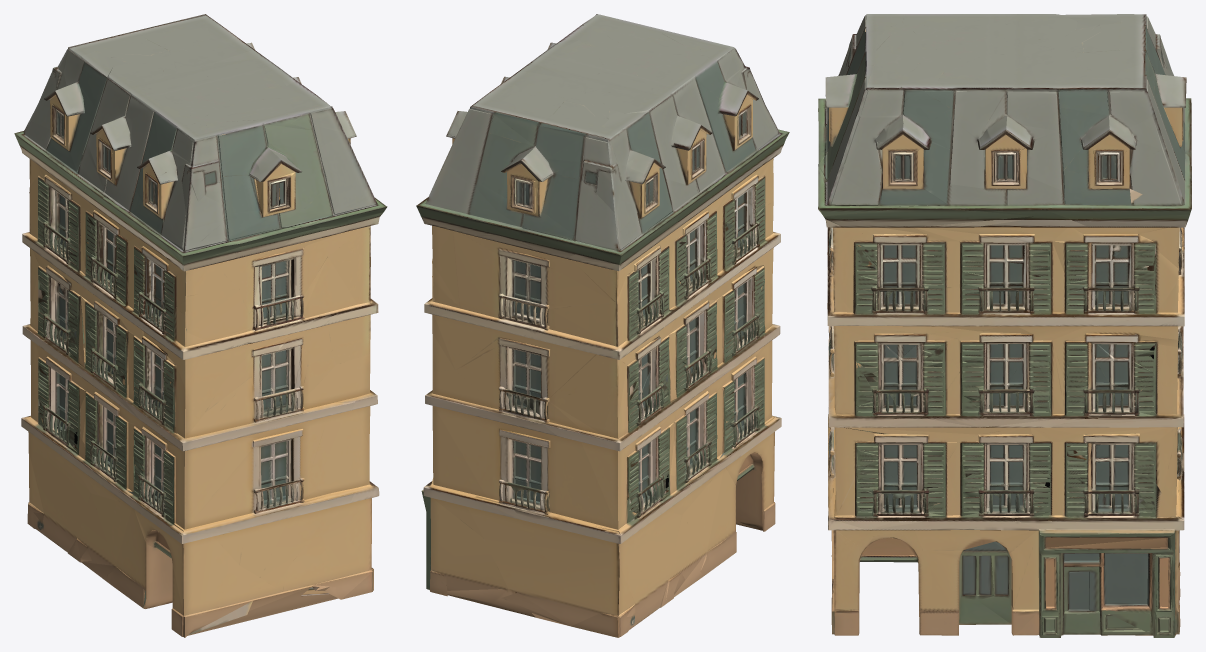
Rendered from building3.glb.
3 views of the same model, side by side, from view 1: azimuth 30°, elevation 25°; view 2: azimuth 150°, elevation 25°; view 3: azimuth 270°, elevation 25° (orthographic). The views are drawn at different scales.
Parts seen in each view (by area): view 1: output_unwrapped; view 2: output_unwrapped; view 3: output_unwrapped.
Boxes of the visible parts, <box> form: output_unwrapped: <box>14,14,387,637</box>; output_unwrapped: <box>416,14,789,637</box>; output_unwrapped: <box>818,14,1191,637</box>.
Bounding box in the file's own units: 0.9037 × 2 × 1.27.
Materials: 1 (1 with a texture image).
